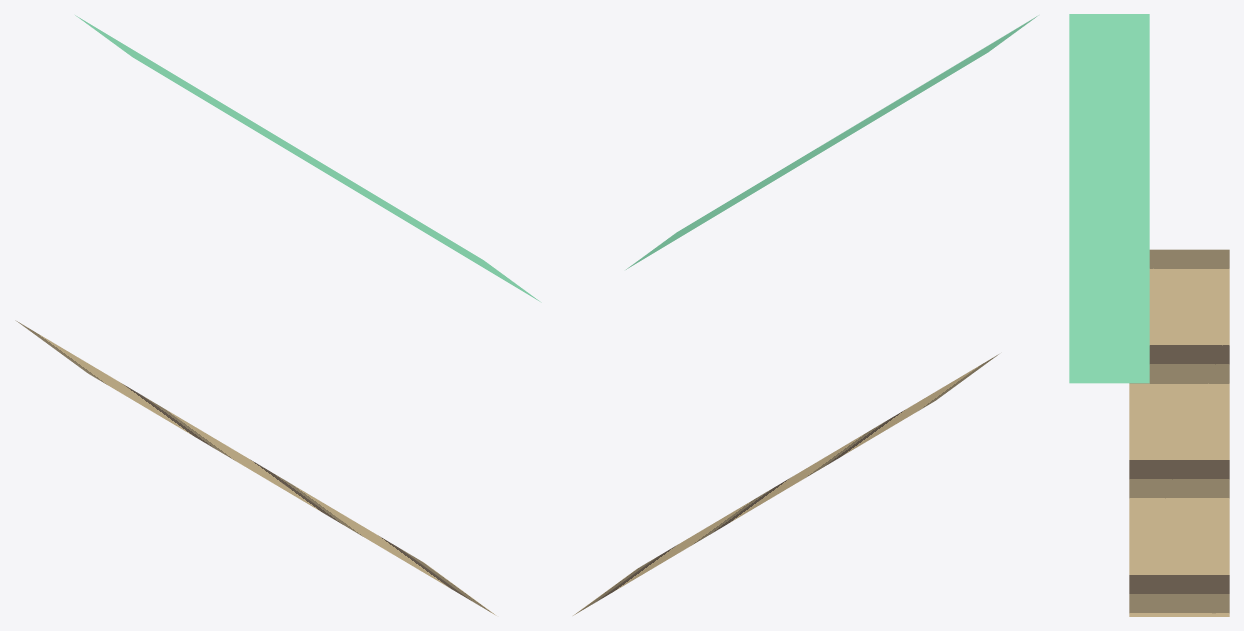
3 renders of one model, left to right at view 1: azimuth 30°, elevation 25°; view 2: azimuth 150°, elevation 25°; view 3: azimuth 270°, elevation 25°, orthographic. The views are drawn at different scales.
Bounding box in the file's own units: 1 × 1.61 × 0.5.
1 material, 1 textured.
